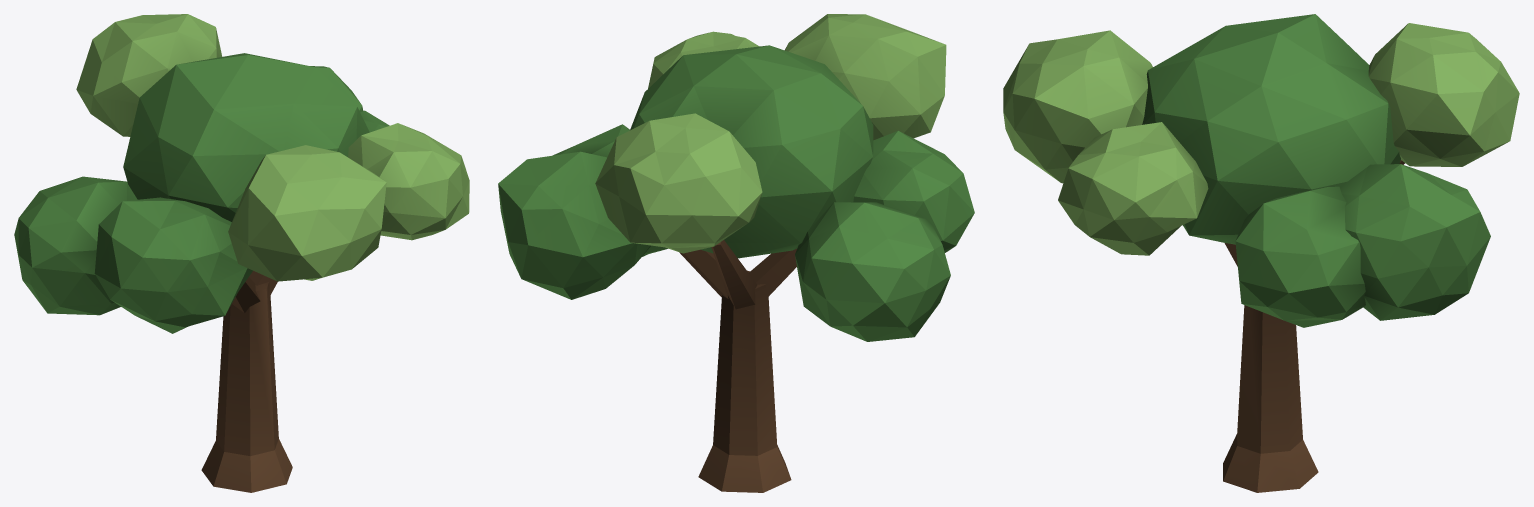
The model's file is tree_oak_b.glb.
The picture shows the model from 3 angles, left to right: view 1: azimuth 30°, elevation 25°; view 2: azimuth 150°, elevation 25°; view 3: azimuth 270°, elevation 25°; orthographic projection. The views are drawn at different scales.
Visible parts, largest first — view 1: Tree; view 2: Tree; view 3: Tree.
Boxes of the visible parts, x1=… form: Tree: x1=14, y1=14, x2=469, y2=492; Tree: x1=498, y1=14, x2=974, y2=492; Tree: x1=1003, y1=14, x2=1519, y2=492.
Size of the model in its own units: 6.66 by 6.76 by 7.15.
1 material, 1 textured.
